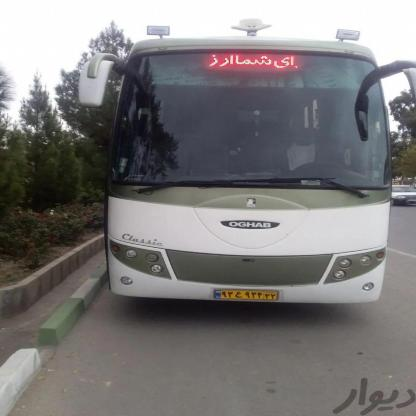Bus: (94, 29, 402, 312)
Car: (388, 185, 416, 212)
